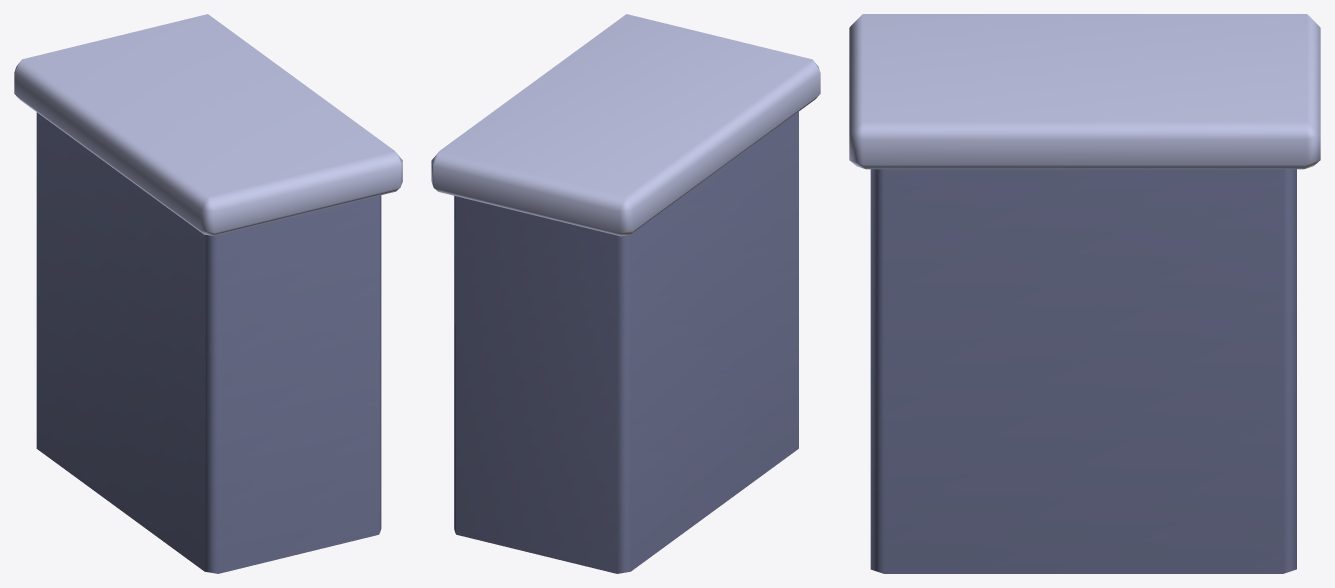
The model's file is Desk_02.fbx.
The picture shows the model from 3 angles, left to right: view 1: azimuth 30°, elevation 25°; view 2: azimuth 150°, elevation 25°; view 3: azimuth 270°, elevation 25°; orthographic projection. The views are drawn at different scales.
Parts seen in each view (by area): view 1: Desk_02; view 2: Desk_02; view 3: Desk_02.
Part boxes in pixels (x1=…): Desk_02: x1=14, y1=14, x2=402, y2=573; Desk_02: x1=431, y1=14, x2=820, y2=573; Desk_02: x1=849, y1=14, x2=1320, y2=573.
Size of the model in its own units: 55.07 by 100 by 93.89.
